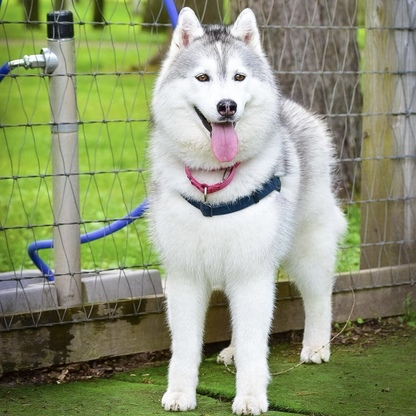husky: (138, 4, 356, 416)
